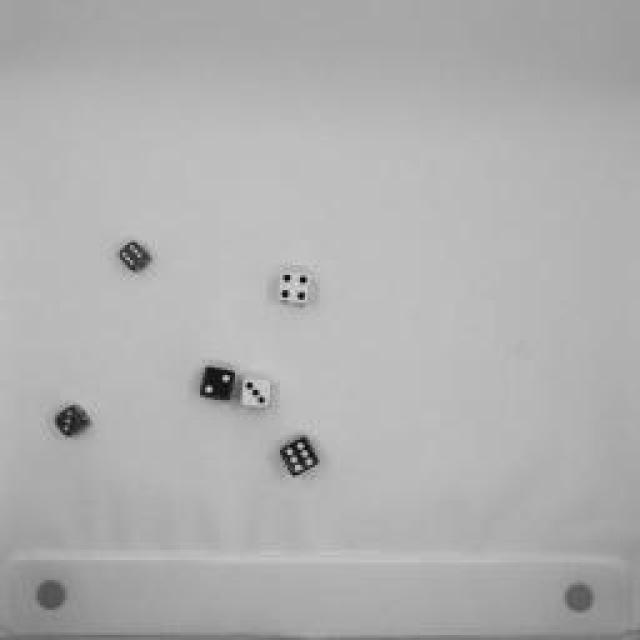dice_2: (192, 357, 242, 405)
dice_3: (238, 370, 278, 415), (54, 402, 94, 440)
dice_4: (274, 269, 316, 311)
dice_6: (275, 432, 323, 482), (114, 239, 154, 276)
